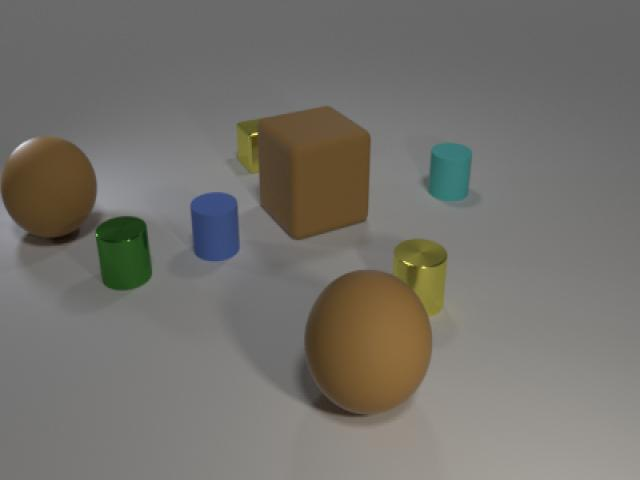cylinder: (389, 234, 452, 323), (96, 210, 155, 293), (186, 189, 244, 266), (425, 135, 475, 209)
round ball: (299, 262, 437, 423), (2, 125, 98, 245)
